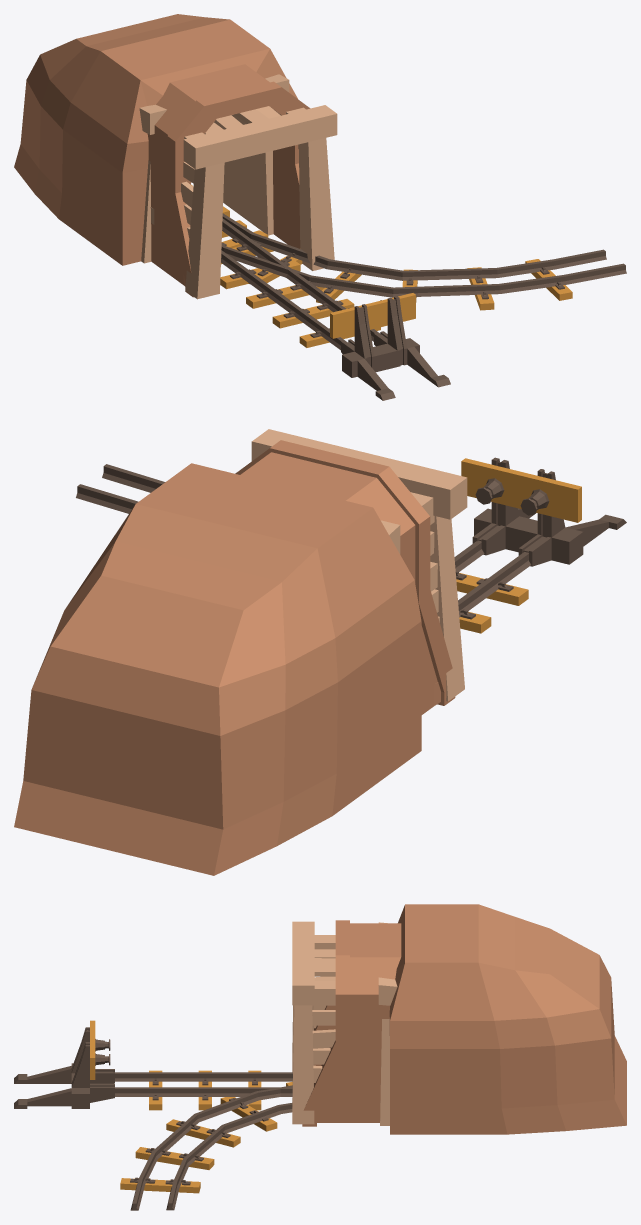
The model's file is Train_Track_Set.fbx.
The picture shows the model from 3 angles, top to bottom: view 1: azimuth 30°, elevation 25°; view 2: azimuth 150°, elevation 25°; view 3: azimuth 270°, elevation 25°; orthographic projection. The views are drawn at different scales.
Parts seen in each view (by area): view 1: TrainTrack_Set; view 2: TrainTrack_Set; view 3: TrainTrack_Set.
Boxes of the visible parts, x1,y1,x2,y2 form: TrainTrack_Set: [14, 14, 626, 400]; TrainTrack_Set: [14, 429, 626, 875]; TrainTrack_Set: [14, 904, 626, 1210].
Bounding box in the file's own units: 441 × 696 × 203.
